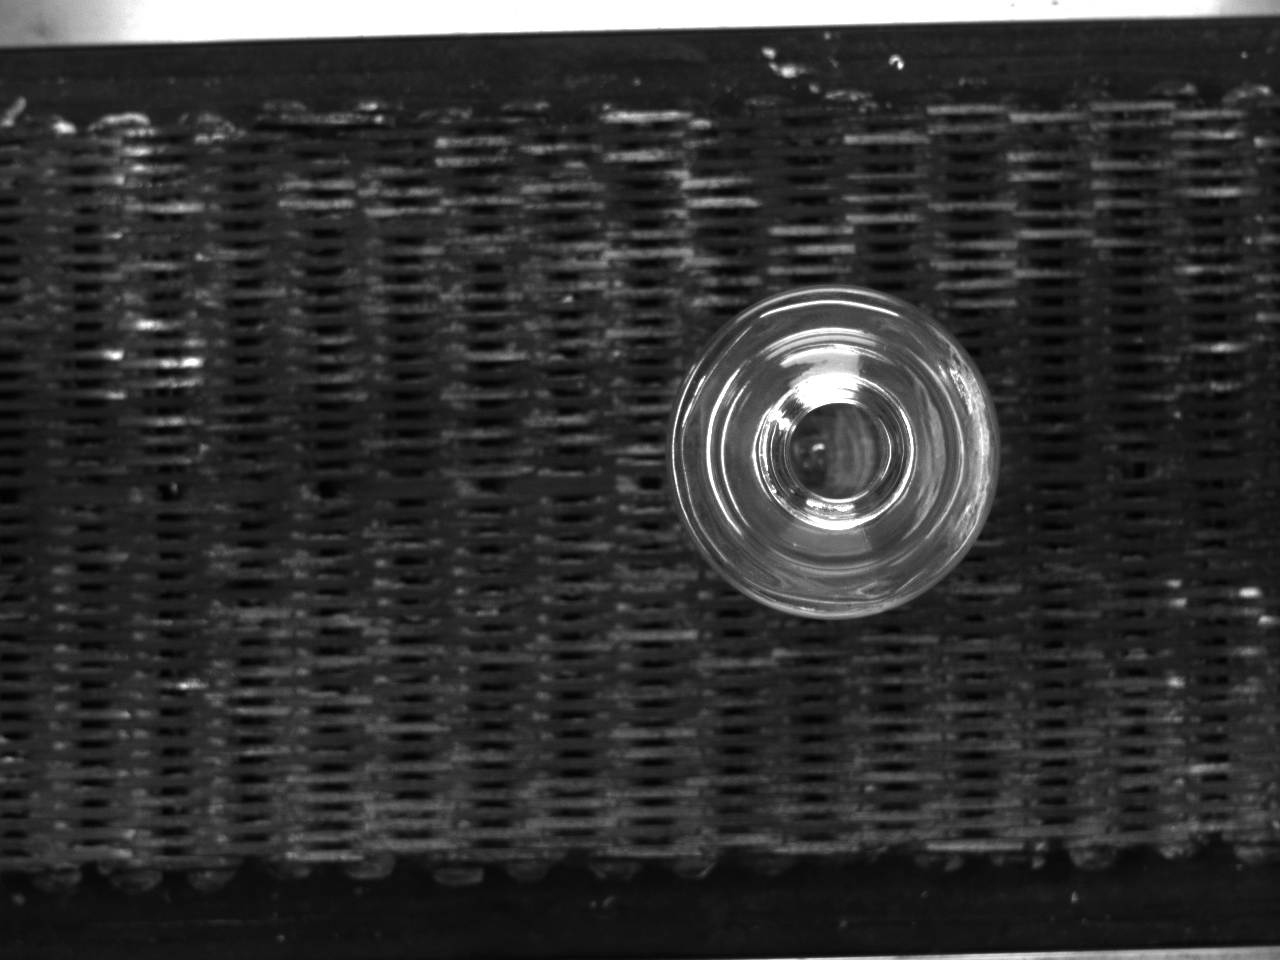bottleneck: (760, 374, 915, 528)
